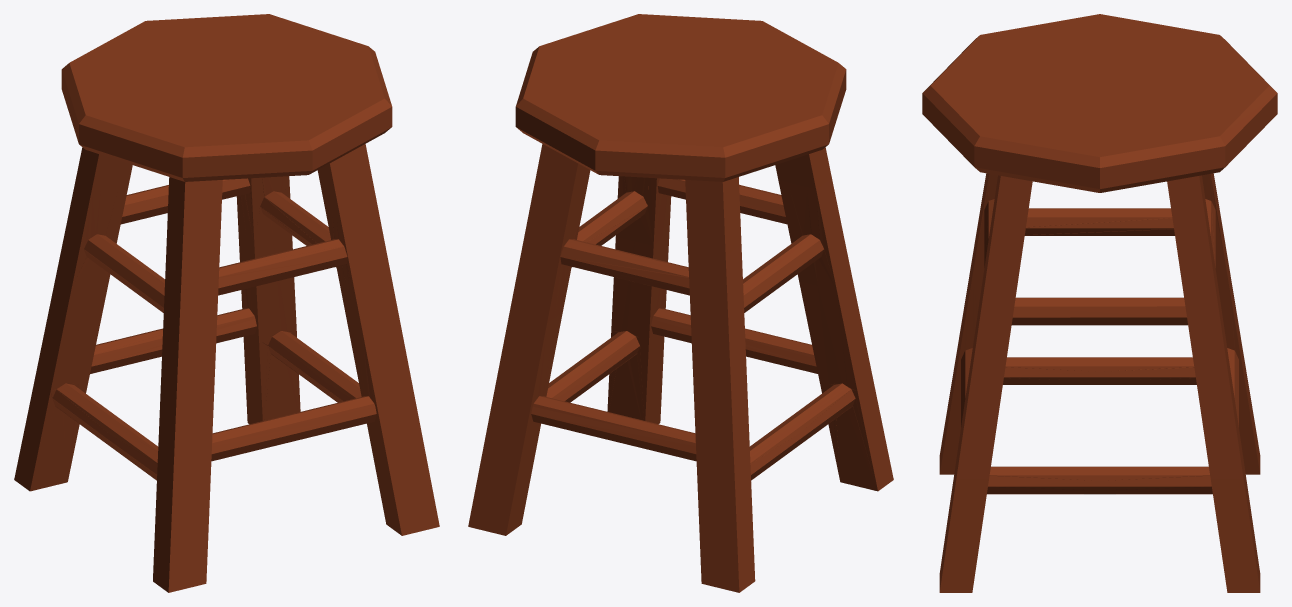
Rendered from stool.glb.
3 views of the same model, side by side, from view 1: azimuth 30°, elevation 25°; view 2: azimuth 150°, elevation 25°; view 3: azimuth 270°, elevation 25° (orthographic). The views are drawn at different scales.
Bounding box in the file's own units: 2.29 × 3.12 × 2.29.
